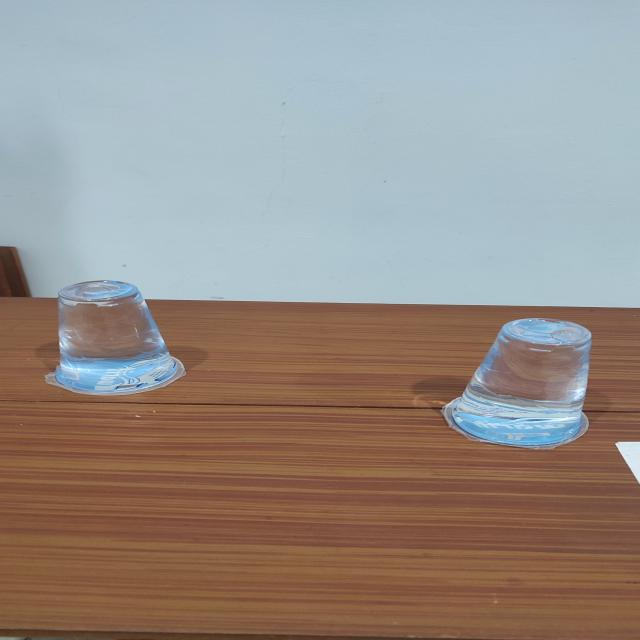air gelas: (433, 316, 611, 455), (38, 277, 204, 399)
